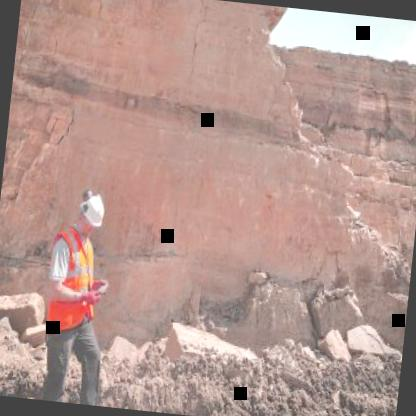helmet: (76, 190, 107, 237)
